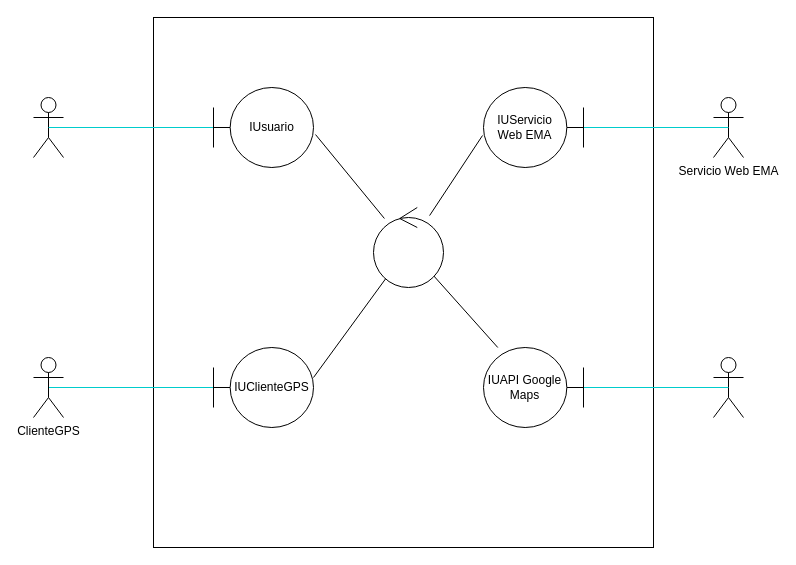
Some shapes in this 796 by 565 pixel diagram are drawn without their labels. The shapes that lost their labels are listed below. From the top down, each one's box as (x1, y1, x2, y2) in pixels, then its label:
(32, 96, 64, 158): Usuario
(372, 206, 444, 288): Gestor Rutas
(712, 356, 744, 418): API Google Maps
